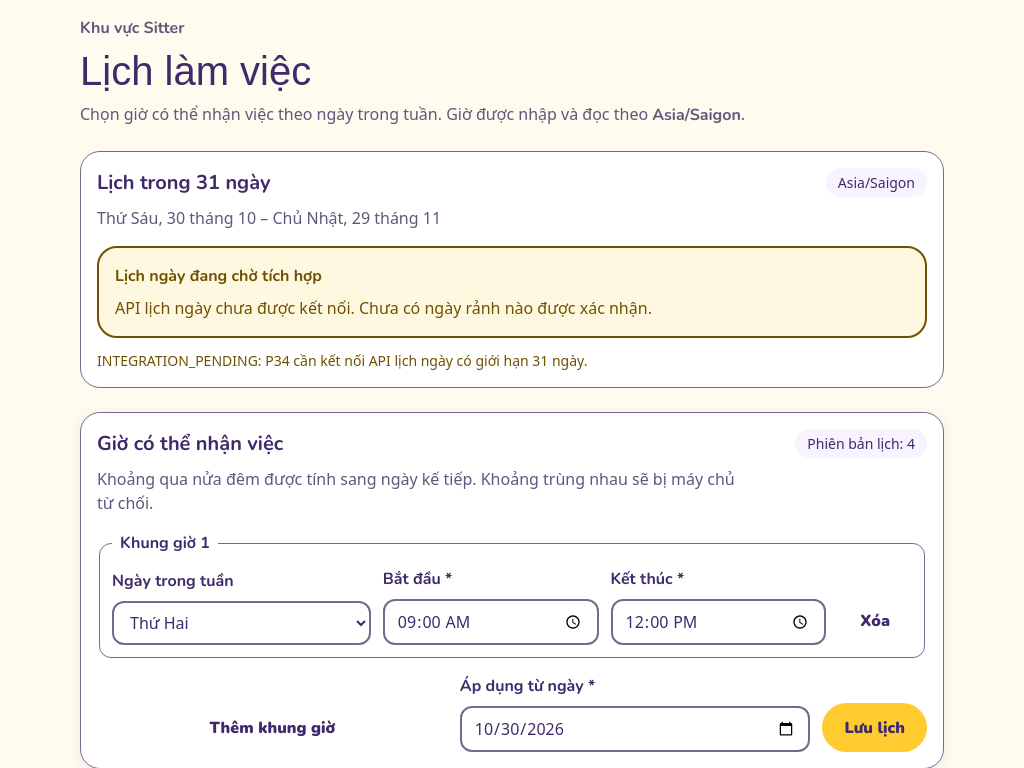
Test case: SitterAvailabilityPage › sends local intervals, current version and an idempotency key, then reloads server state
Expected: the heading "Giờ có thể nhận việc" is shown, x1=97 y1=430 x2=283 y2=457
Replace the text in the time field labelled "Bắt đầu *" with "10:00" at (491, 622), box x1=383 y1=599 x2=598 y2=645
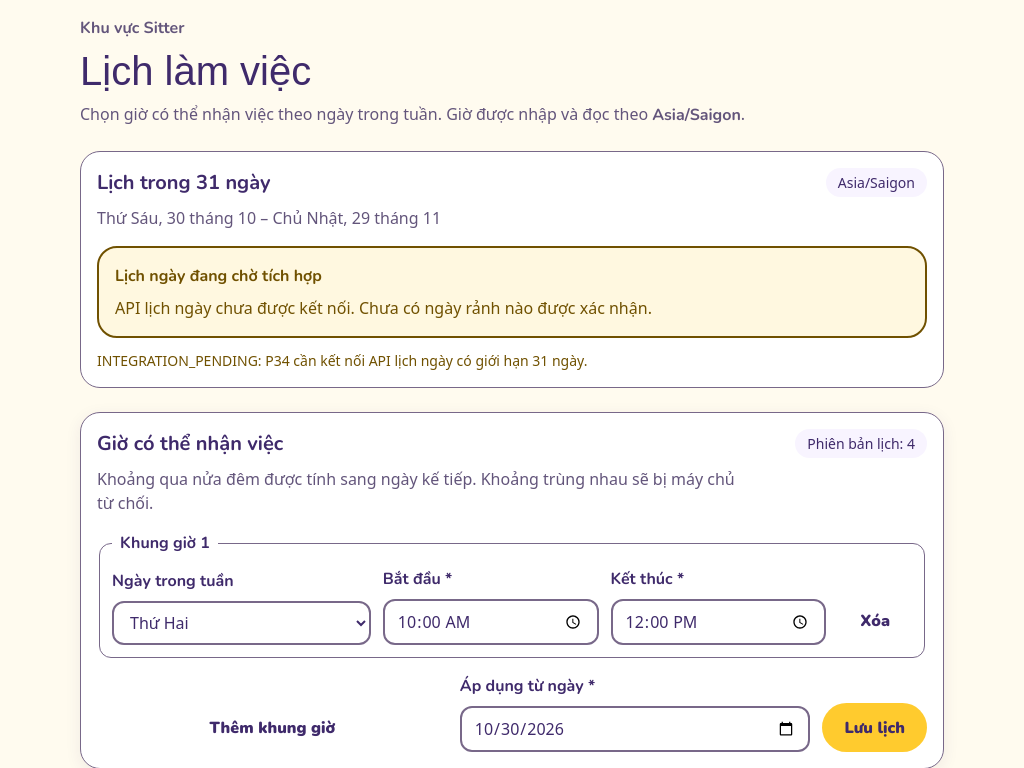
Replace the text in the time field labelled "Kết thúc *" with "13:00" at (718, 622), box x1=610 y1=599 x2=826 y2=645
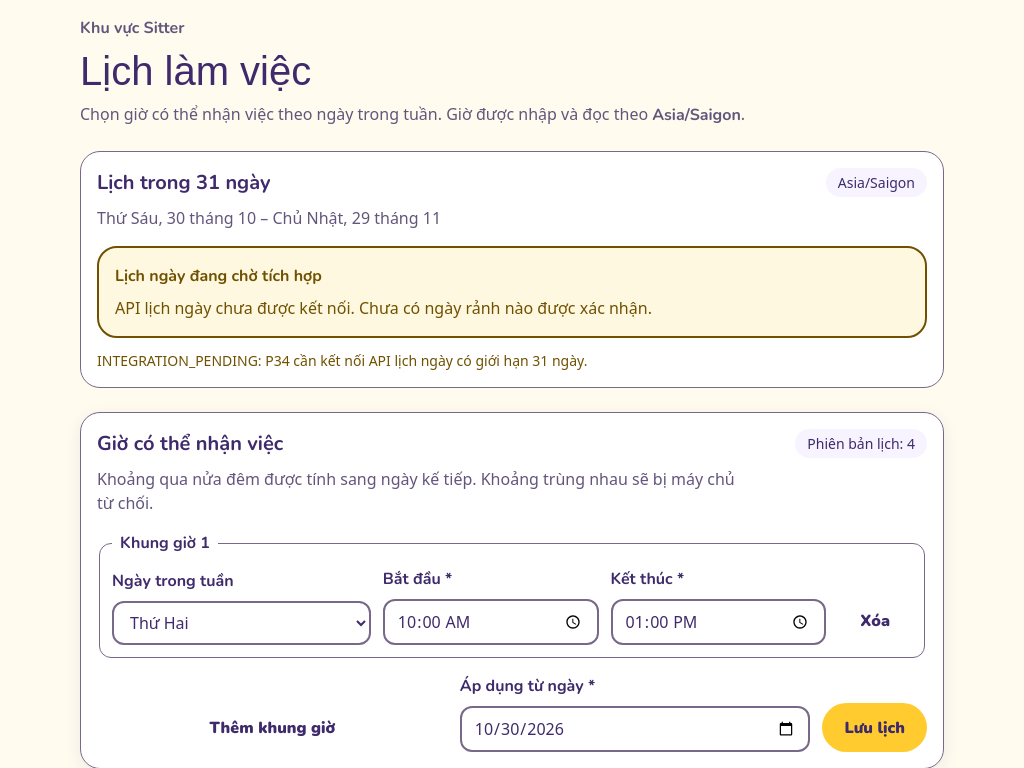
Click the button "Lưu lịch".
click(875, 728)  # box x1=822 y1=703 x2=927 y2=752
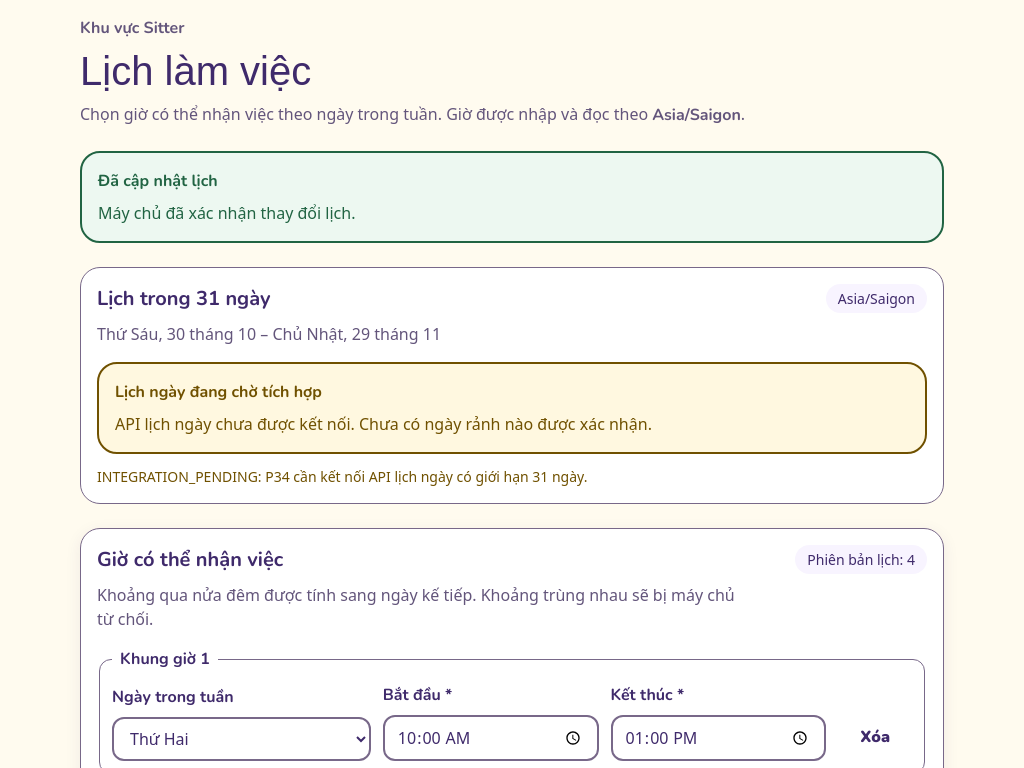
Result: the text "Máy chủ đã xác nhận thay đổi lịch." is shown at x1=98 y1=202 x2=355 y2=224
